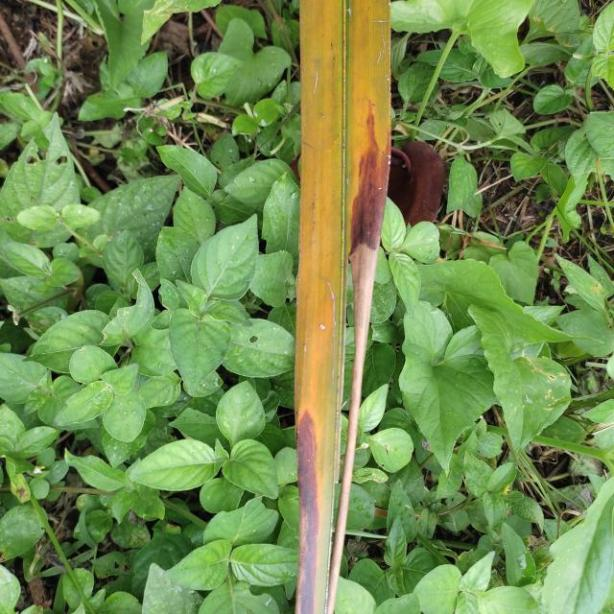Megnesium: (299, 0, 390, 614)
